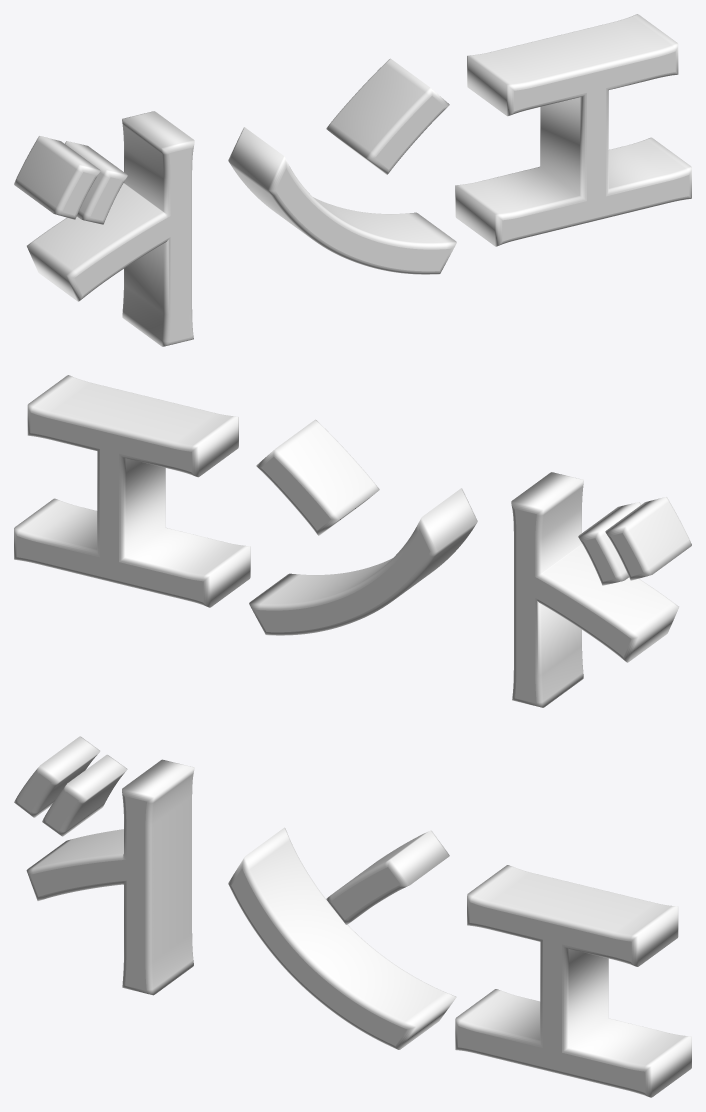
The model's file is end.obj.
3 renders of one model, top to bottom at view 1: azimuth 30°, elevation 25°; view 2: azimuth 150°, elevation 25°; view 3: azimuth 330°, elevation 25°, orthographic.
Visible parts, largest first — view 1: テキスト.005; view 2: テキスト.005; view 3: テキスト.005.
Part boxes in pixels (bbox=[...]): テキスト.005: bbox=[14, 14, 691, 346]; テキスト.005: bbox=[14, 375, 691, 707]; テキスト.005: bbox=[14, 736, 691, 1097].
Bounding box in the file's own units: 2.83 × 0.8581 × 0.34.
1 material, 1 textured.
